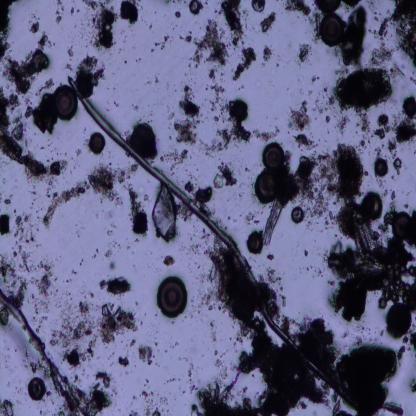Background material: (198, 322, 326, 413), (323, 240, 416, 318), (41, 164, 138, 229), (208, 249, 266, 319), (341, 339, 399, 407), (290, 155, 333, 225), (330, 142, 364, 203), (96, 301, 142, 346), (2, 46, 51, 86), (174, 83, 202, 150), (343, 0, 370, 65), (391, 2, 416, 67), (208, 119, 253, 152), (290, 100, 319, 150), (195, 23, 229, 65), (49, 320, 96, 349), (81, 0, 105, 50), (206, 66, 230, 116), (127, 385, 165, 416), (84, 367, 111, 410), (157, 141, 190, 175), (9, 248, 52, 272), (221, 2, 245, 44), (265, 265, 287, 310), (233, 45, 256, 84), (0, 0, 14, 63), (380, 187, 398, 235), (100, 274, 134, 298), (180, 230, 207, 258), (213, 162, 240, 190), (15, 214, 38, 245), (73, 52, 102, 76), (354, 109, 375, 141), (0, 256, 23, 285), (8, 114, 29, 143), (184, 356, 199, 396), (371, 43, 395, 66), (395, 118, 416, 143), (120, 2, 141, 27), (195, 181, 215, 206), (399, 334, 416, 362), (285, 0, 313, 17), (299, 262, 325, 280), (146, 34, 172, 52), (35, 271, 53, 296), (250, 125, 282, 139), (241, 208, 264, 227), (64, 348, 83, 371), (73, 298, 94, 318), (259, 14, 279, 35), (137, 344, 155, 367), (317, 88, 332, 115), (52, 0, 66, 26), (0, 212, 13, 239), (297, 41, 312, 64), (389, 66, 407, 84), (36, 28, 49, 52), (390, 156, 403, 177), (45, 180, 59, 199), (335, 114, 349, 133), (0, 396, 13, 416), (376, 113, 391, 130), (186, 53, 196, 77), (260, 44, 272, 64), (188, 2, 204, 16), (116, 355, 132, 369), (26, 20, 42, 34), (252, 1, 267, 14), (179, 31, 194, 44), (308, 71, 320, 86), (184, 179, 196, 194), (388, 138, 399, 154), (190, 400, 201, 416), (164, 255, 178, 267), (374, 128, 388, 140), (65, 44, 74, 59), (409, 375, 416, 394), (174, 10, 184, 21), (128, 103, 140, 112), (165, 376, 177, 385), (93, 247, 101, 260), (63, 63, 74, 72), (105, 249, 114, 260), (407, 74, 416, 85), (4, 197, 14, 206), (77, 257, 85, 267), (90, 289, 96, 302), (76, 147, 83, 158), (142, 376, 151, 384), (268, 252, 274, 264), (105, 231, 115, 238), (153, 338, 161, 346), (70, 267, 78, 275), (131, 237, 140, 244), (155, 73, 160, 85), (303, 248, 309, 258), (324, 114, 331, 122), (112, 100, 119, 108), (364, 169, 370, 178), (114, 244, 122, 250), (111, 262, 116, 270), (126, 244, 132, 250), (122, 59, 128, 65), (174, 340, 180, 346), (70, 8, 74, 16), (276, 63, 280, 68)
Cellulose filter fibre: (0, 291, 84, 416), (152, 186, 180, 244), (263, 194, 290, 247)
Diatom: (0, 88, 61, 180), (331, 70, 395, 107), (304, 314, 340, 372), (351, 209, 379, 261), (157, 276, 188, 316), (47, 85, 80, 121), (130, 119, 159, 157), (388, 302, 414, 340), (318, 16, 344, 50), (253, 172, 281, 202), (262, 141, 287, 168), (362, 190, 384, 218), (394, 211, 414, 240), (77, 72, 96, 99), (131, 209, 149, 236), (27, 376, 46, 401), (247, 231, 264, 256), (98, 29, 117, 50), (89, 132, 106, 153), (232, 100, 249, 121), (374, 158, 390, 178), (401, 93, 416, 114), (314, 1, 344, 11), (291, 204, 306, 224), (100, 11, 116, 28), (332, 399, 341, 413)
Microfibre: (68, 76, 378, 416)
